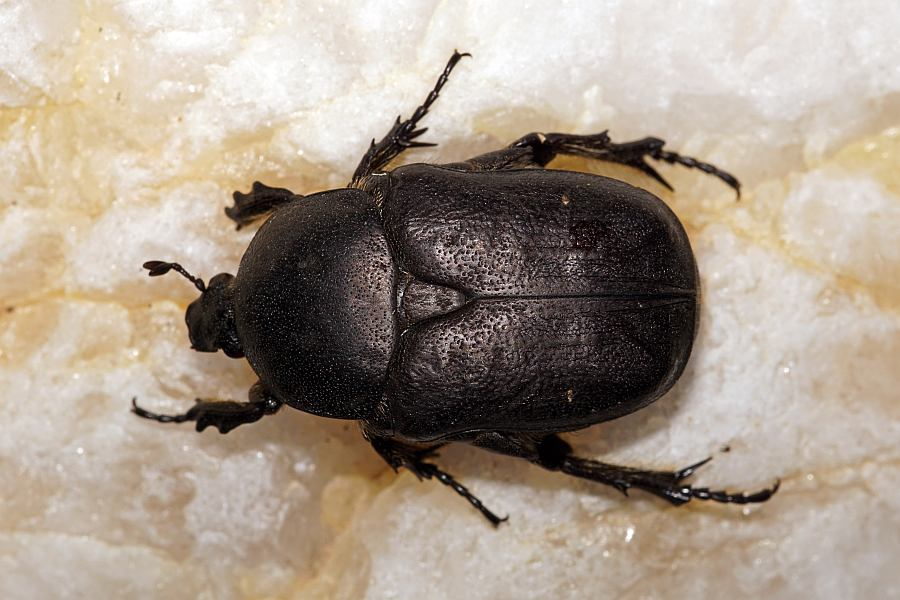Protaetia_vidua: (128, 47, 789, 533)
